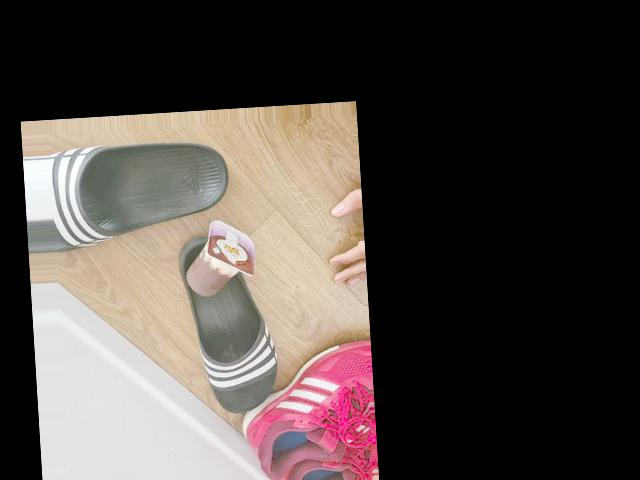milky: (180, 221, 260, 292)
